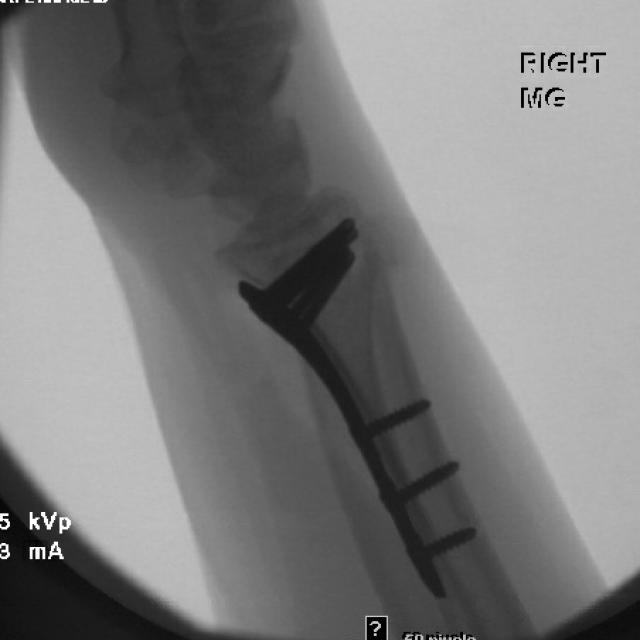x-ray: (202, 202, 490, 615)
